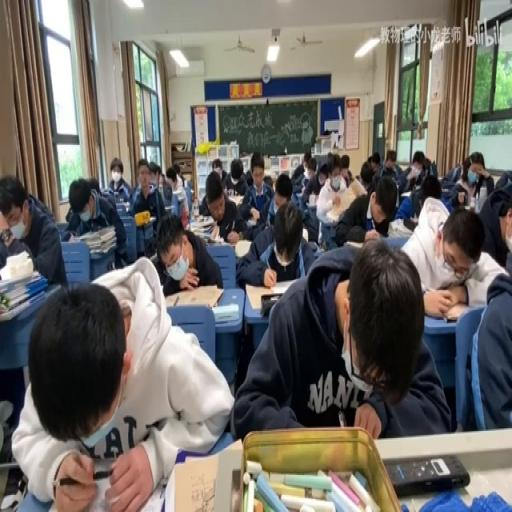calculator: (46, 458, 156, 509), (384, 452, 470, 496), (171, 453, 220, 512), (166, 283, 223, 309), (211, 302, 238, 322), (234, 238, 252, 258), (222, 194, 244, 208), (134, 214, 156, 228), (324, 206, 342, 222), (190, 215, 214, 226), (112, 199, 130, 212), (172, 186, 186, 200), (345, 240, 363, 249), (67, 232, 81, 243), (210, 224, 219, 240), (158, 180, 166, 198), (246, 216, 257, 225), (400, 191, 412, 199), (307, 199, 317, 208), (164, 204, 174, 210)
paper: (14, 253, 232, 506), (230, 234, 440, 436), (400, 198, 506, 318), (234, 191, 316, 283), (0, 174, 66, 288), (66, 176, 129, 269), (334, 171, 396, 246), (130, 158, 170, 253), (196, 170, 246, 244), (450, 152, 491, 209), (398, 151, 433, 196), (106, 155, 131, 198), (290, 149, 312, 192), (357, 151, 379, 189), (208, 155, 226, 183), (493, 170, 512, 194), (230, 164, 244, 184), (86, 176, 100, 194), (165, 168, 176, 190), (340, 155, 350, 174), (430, 159, 438, 178), (244, 171, 254, 186), (318, 171, 328, 186), (262, 175, 273, 188), (414, 158, 423, 171), (386, 155, 395, 164)
person: (0, 466, 26, 512), (228, 468, 241, 510), (260, 292, 282, 316), (403, 215, 416, 232), (443, 313, 458, 321)
